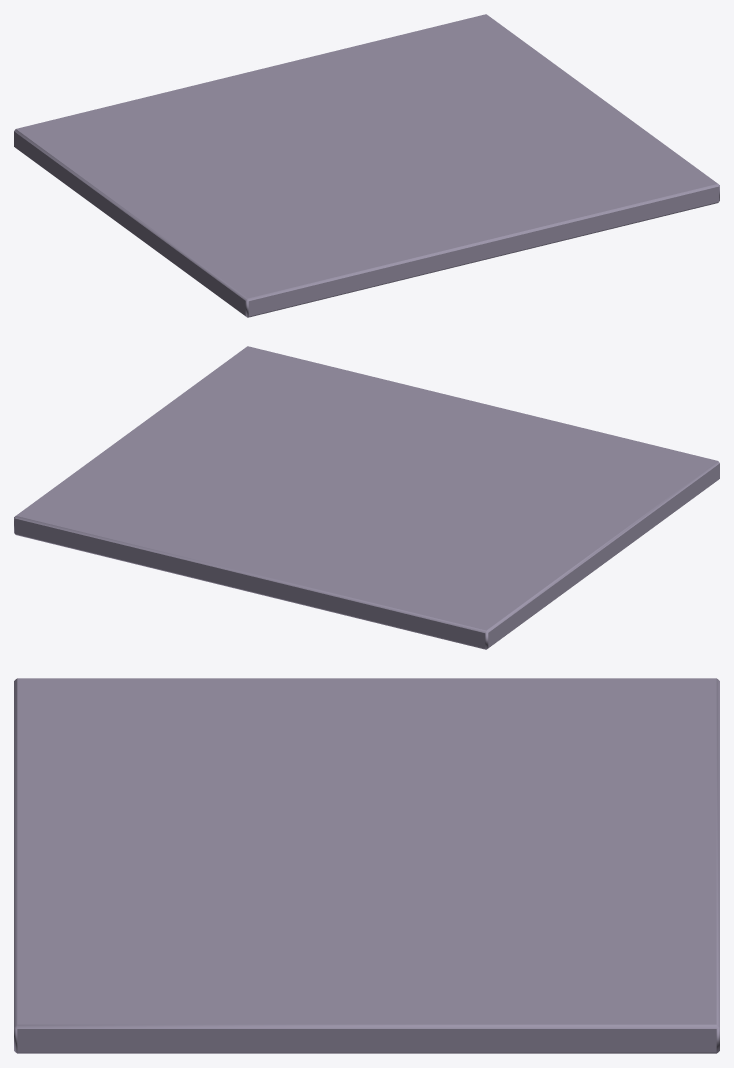
The model's file is CandyHouse_Lavender_Foundation.glb.
The picture shows the model from 3 angles, top to bottom: view 1: azimuth 30°, elevation 25°; view 2: azimuth 150°, elevation 25°; view 3: azimuth 270°, elevation 25°; orthographic projection. The views are drawn at different scales.
Parts seen in each view (by area): view 1: CandyHouse_Lavender_Foundation; view 2: CandyHouse_Lavender_Foundation; view 3: CandyHouse_Lavender_Foundation.
Boxes of the visible parts, bbox=[...] form: CandyHouse_Lavender_Foundation: bbox=[14, 14, 719, 317]; CandyHouse_Lavender_Foundation: bbox=[14, 346, 719, 649]; CandyHouse_Lavender_Foundation: bbox=[14, 678, 719, 1053].
Bounding box in the file's own units: 20.6 × 0.8 × 17.6.
